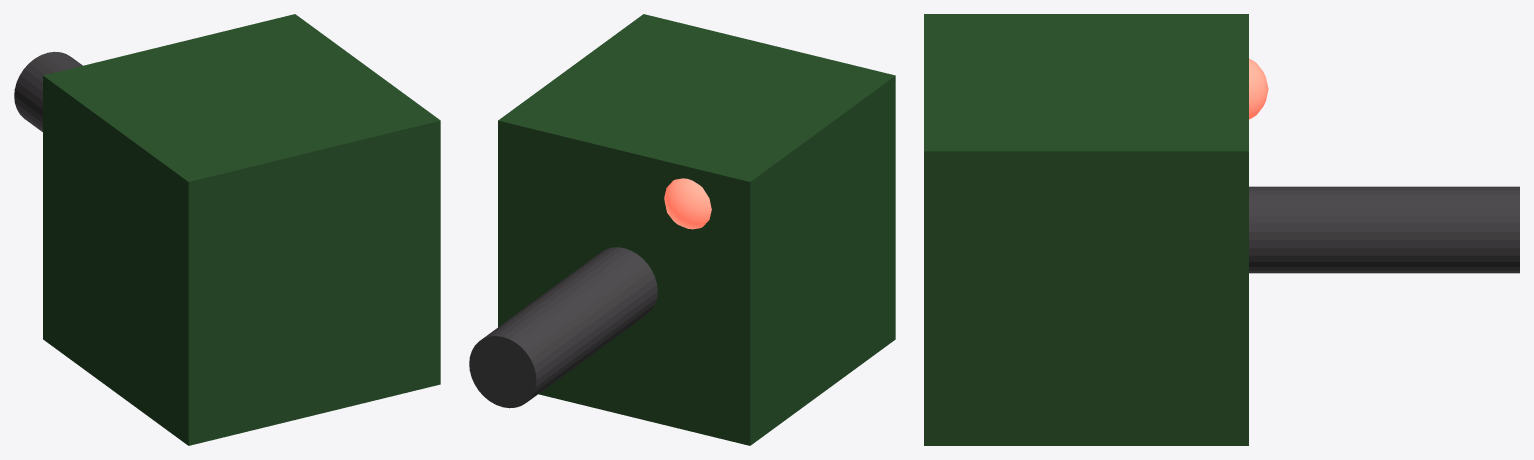
Rendered from turret.glb.
The picture shows the model from 3 angles, left to right: view 1: azimuth 30°, elevation 25°; view 2: azimuth 150°, elevation 25°; view 3: azimuth 270°, elevation 25°; orthographic projection. The views are drawn at different scales.
Visible parts, largest first — view 1: Cylinder; view 2: Cylinder; view 3: Cylinder.
Boxes of the visible parts, <box> form: Cylinder: <box>14,14,440,445</box>; Cylinder: <box>469,14,895,445</box>; Cylinder: <box>924,14,1519,445</box>.
Size of the model in its own units: 0.75 by 0.75 by 1.38.
